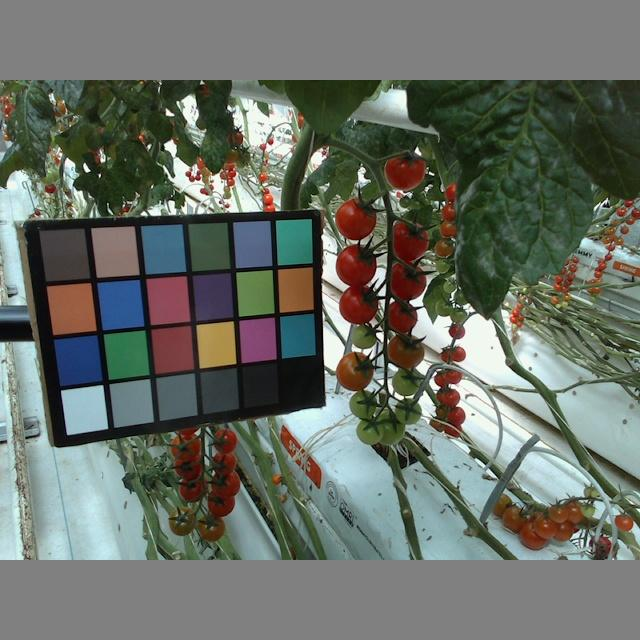green: (370, 412, 408, 447), (391, 367, 421, 396), (356, 416, 384, 446), (349, 390, 376, 420), (394, 398, 422, 424), (351, 323, 376, 349)
pink: (334, 354, 374, 390), (383, 337, 425, 369), (168, 508, 197, 537), (197, 516, 226, 543)
red: (388, 221, 431, 262), (335, 199, 377, 240), (384, 153, 428, 192), (335, 247, 377, 287), (338, 286, 380, 325), (385, 264, 426, 302), (380, 302, 416, 333), (204, 488, 237, 518), (170, 433, 202, 461), (171, 454, 203, 480), (211, 473, 243, 499), (177, 476, 205, 502), (212, 430, 238, 454), (222, 453, 236, 477)
